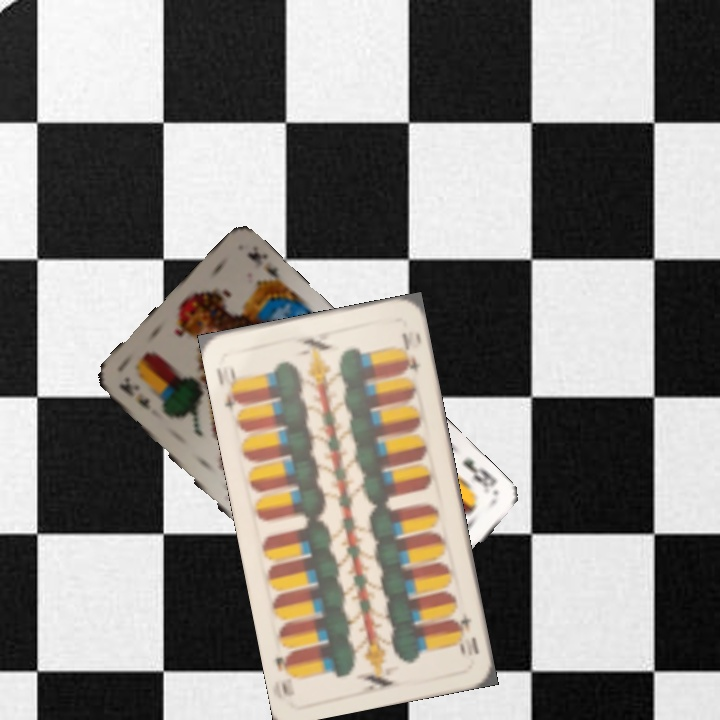E10: (212, 360, 245, 414), (450, 609, 474, 657)
EK: (459, 455, 499, 496), (115, 375, 153, 413)
